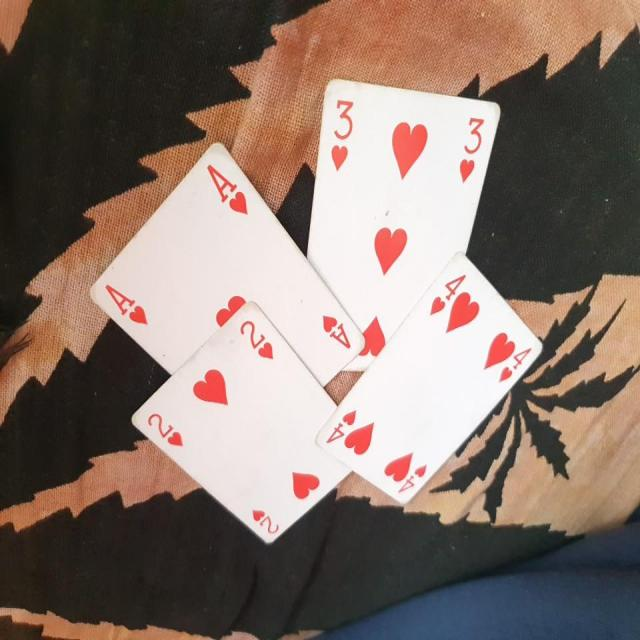2 Hearts: (123, 298, 360, 546)
3 Hearts: (297, 79, 500, 374)
4 Hearts: (307, 254, 556, 520)
A Hearts: (91, 140, 370, 433)
